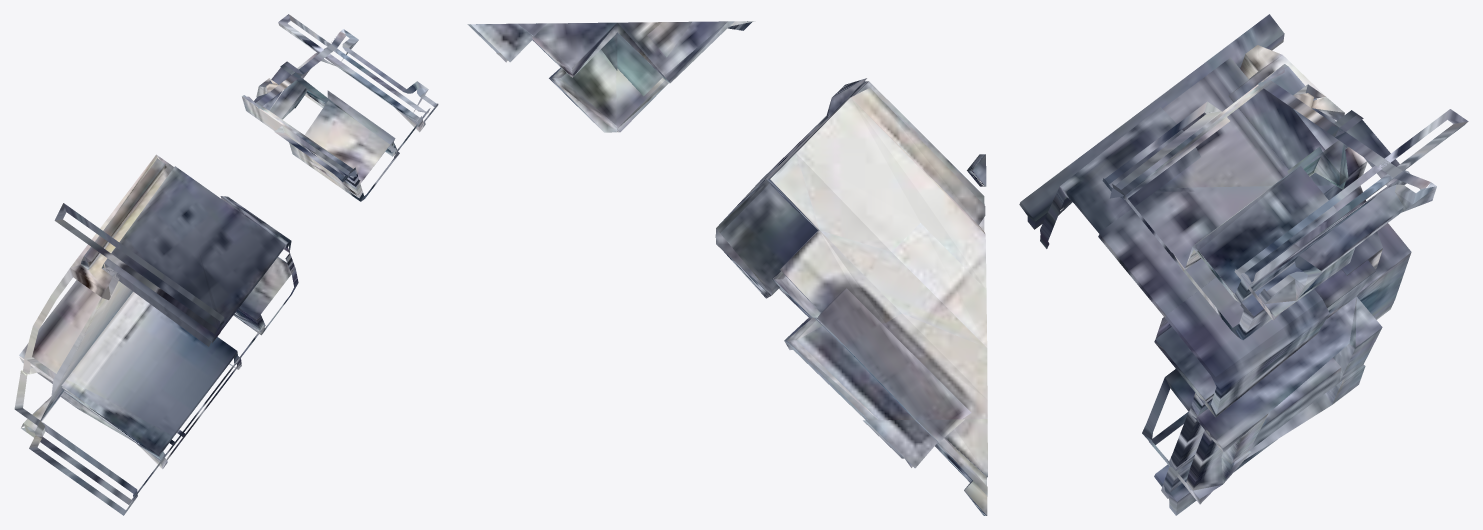
3 renders of one model, left to right at view 1: azimuth 30°, elevation 25°; view 2: azimuth 150°, elevation 25°; view 3: azimuth 270°, elevation 25°, orthographic. The views are drawn at different scales.
Bounding box in the file's own units: 29.49 × 26.11 × 17.89.
Materials: 1 (1 with a texture image).
